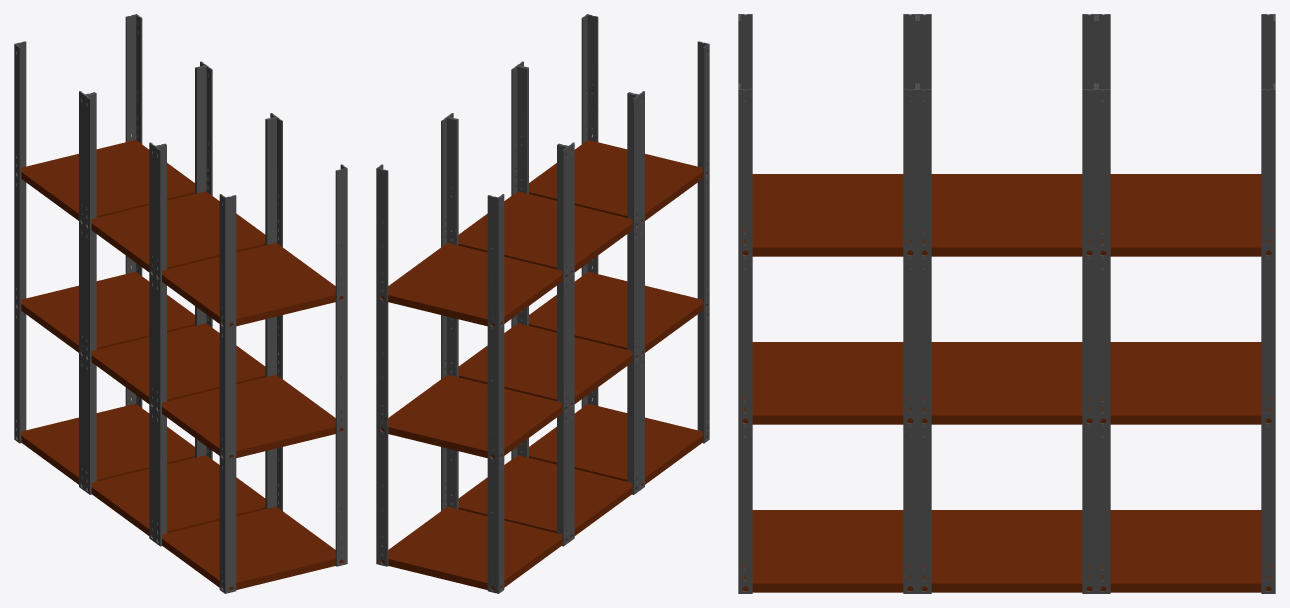
The model's file is Estante_x3.fbx.
3 renders of one model, left to right at view 1: azimuth 30°, elevation 25°; view 2: azimuth 150°, elevation 25°; view 3: azimuth 270°, elevation 25°, orthographic. The views are drawn at different scales.
Visible parts, largest first — view 1: Cube.001; view 2: Cube.001; view 3: Cube.001.
Boxes of the visible parts, x1,y1,x2,y2 form: Cube.001: (14,14,347,593); Cube.001: (376,14,709,593); Cube.001: (738,14,1275,593).
Size of the model in its own units: 95.74 by 295 by 286.
